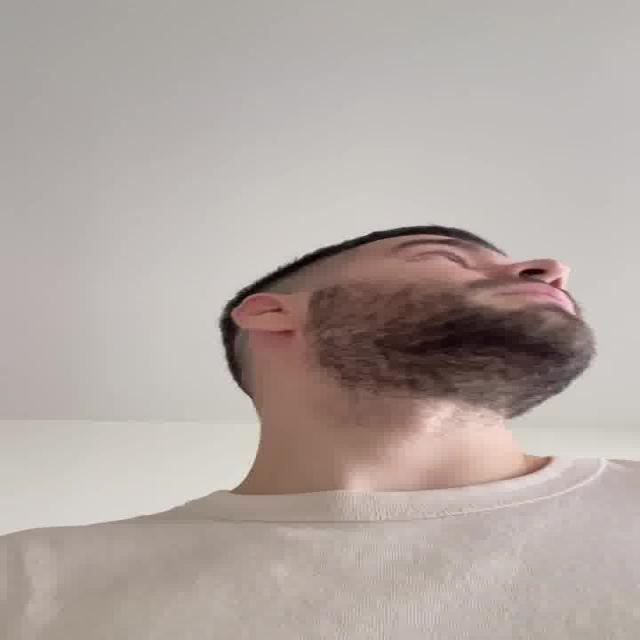earlobe: (250, 318, 296, 333)
eye: (404, 249, 474, 267)
nose: (515, 272, 572, 289)
wholeear: (230, 292, 300, 334)
